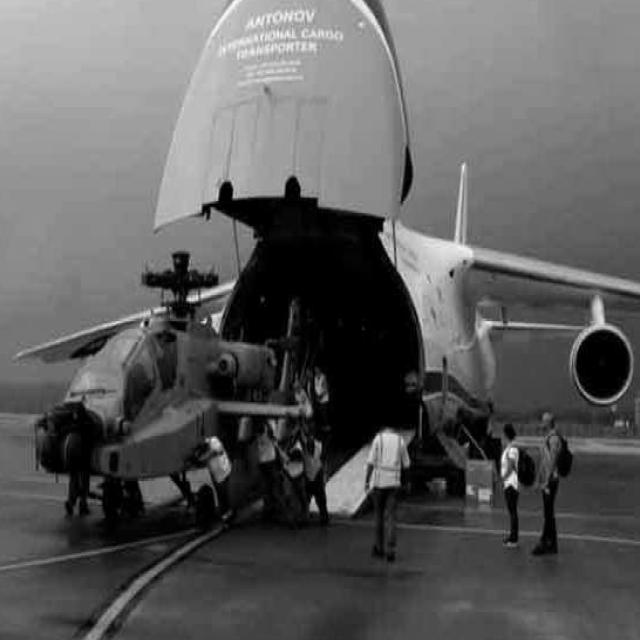helicopter: (35, 252, 315, 529)
